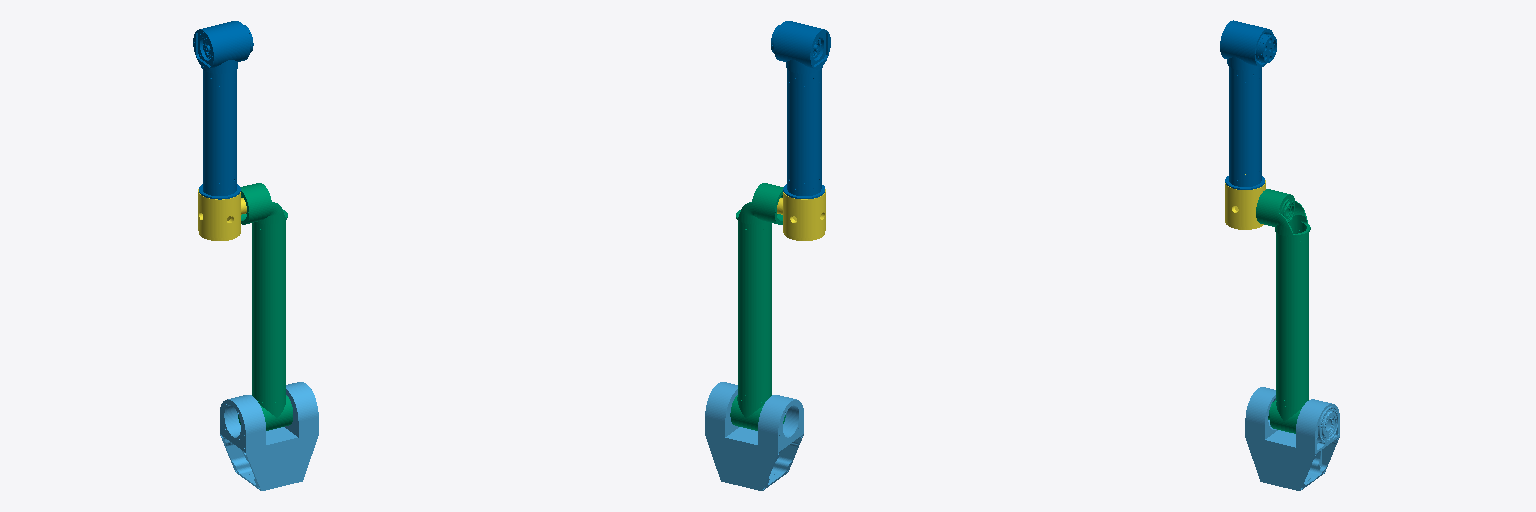
robot.urdf — rover_arm:
<?xml version="1.0"?>
<robot name="rover_arm">

  <!--DEFINING ROBOT LINKS IN ORDER FROM BASE TO HAND-->
  <link name="base_link">
    <visual>
      <origin rpy="0 0 0" xyz="0 0 0"/>
      <geometry>
        <mesh filename="package://rover_arm_urdf/urdf/dae_files/base_link.dae"/>
      </geometry>
    </visual>
    <collision>
      <origin rpy="0 0 0" xyz="0 0 0"/>
      <geometry>
        <mesh filename="package://rover_arm_urdf/urdf/stl_files/base_link.stl"/>
      </geometry>
    </collision>
  </link>
  
  <link name="arm_link_0">
    <visual>
      <origin rpy="0 0 0" xyz="-0.043 -0.056 0"/>
      <geometry>
        <mesh filename="package://rover_arm_urdf/urdf/dae_files/arm_link_0.dae"/>
      </geometry>
    </visual>
    <collision>
      <origin rpy="0 0 0" xyz="-0.043 -0.056 0"/>
      <geometry>
        <mesh filename="package://rover_arm_urdf/urdf/stl_files/arm_link_0.stl"/>
      </geometry>
    </collision>
    <inertial>
      <mass value="1"/>
      <inertia ixx="1.0" ixy="0.0" ixz="0.0" iyy="1.0" iyz="0.0" izz="1.0"/>
    </inertial>
  </link>

  <link name="arm_link_1">
    <visual>
      <origin rpy="0 0 0" xyz="0 0 0"/>
      <geometry>
        <mesh filename="package://rover_arm_urdf/urdf/dae_files/arm_link_1.dae"/>
      </geometry>
    </visual>
    <collision>
      <origin rpy="0 0 0" xyz="0 0 0"/>
      <geometry>
        <mesh filename="package://rover_arm_urdf/urdf/stl_files/arm_link_1.stl"/>
      </geometry>
    </collision>
    <inertial>
      <mass value="1"/>
      <inertia ixx="1.0" ixy="0.0" ixz="0.0" iyy="1.0" iyz="0.0" izz="1.0"/>
    </inertial>
  </link>

  <link name="arm_link_2">
    <visual>
      <origin rpy="0 0 0" xyz="0.063 0.000654 -0.040895"/>
      <geometry>
        <mesh filename="package://rover_arm_urdf/urdf/dae_files/arm_link_2.dae"/>
      </geometry>
    </visual>
    <collision>
      <origin rpy="0 0 0" xyz="0.063 0.000654 -0.040895"/>
      <geometry>
        <mesh filename="package://rover_arm_urdf/urdf/stl_files/arm_link_2.stl"/>
      </geometry>
    </collision>
    <inertial>
      <mass value="1"/>
      <inertia ixx="1.0" ixy="0.0" ixz="0.0" iyy="1.0" iyz="0.0" izz="1.0"/>
    </inertial>
  </link>

  <link name="arm_link_3">
    <visual>
      <origin rpy="0 0 0" xyz="0 0 -0.0086"/>
      <geometry>
        <mesh filename="package://rover_arm_urdf/urdf/dae_files/arm_link_3.dae"/>
      </geometry>
    </visual>
    <collision>
      <origin rpy="0 0 0" xyz="0 0 -0.0086"/>
      <geometry>
        <mesh filename="package://rover_arm_urdf/urdf/stl_files/arm_link_3.stl"/>
      </geometry>
    </collision>
    <inertial>
      <mass value="1"/>
      <inertia ixx="1.0" ixy="0.0" ixz="0.0" iyy="1.0" iyz="0.0" izz="1.0"/>
    </inertial>
  </link>

  <link name="arm_link_4">
    <visual>
      <origin rpy="0 0 1.57079632679" xyz="0 0 0"/>
      <geometry>
        <mesh filename="package://rover_arm_urdf/urdf/dae_files/arm_link_4.dae"/>
      </geometry>
    </visual>
    <collision>
      <origin rpy="0 0 1.57079632679" xyz="0 0 0"/>
      <geometry>
        <mesh filename="package://rover_arm_urdf/urdf/stl_files/arm_link_4.stl"/>
      </geometry>
    </collision>
    <inertial>
      <mass value="1"/>
      <inertia ixx="1.0" ixy="0.0" ixz="0.0" iyy="1.0" iyz="0.0" izz="1.0"/>
    </inertial>
  </link>

  <link name="arm_gripper">
    <visual>
      <origin rpy="0 0 0" xyz="-0.038106 0.015875 0.14921"/>
      <geometry>
        <mesh filename="package://rover_arm_urdf/urdf/dae_files/arm_gripper.dae"/>
      </geometry>
    </visual>
    <collision>
      <origin rpy="0 0 0" xyz="-0.038106 0.015875 0.14921"/>
      <geometry>
        <mesh filename="package://rover_arm_urdf/urdf/stl_files/arm_gripper.stl"/>
      </geometry>
    </collision>
    <inertial>
      <mass value="1"/>
      <inertia ixx="1.0" ixy="0.0" ixz="0.0" iyy="1.0" iyz="0.0" izz="1.0"/>
    </inertial>
  </link>



  <joint name="base_joint" type="revolute">
    <parent link="base_link"/>
    <child link="arm_link_0"/>
    <origin rpy="0 0 0" xyz="0 0.055 0.087245"/>
    <axis xyz="0 0 -1"/>
    <limit effort="1000.0" lower="-1.57079632679" upper="1.57079632679" velocity="6.0"/>
  </joint>

  <joint name="shoulder_joint" type="revolute">
    <parent link="arm_link_0"/>
    <child link="arm_link_1"/>
    <origin rpy="0 0 3.14159" xyz="0 0 0.151443"/>
    <axis xyz="-1 0 0"/>
    <limit effort="1000.0" lower="-1.57079632679" upper="1.57079632679" velocity="6.0"/>
  </joint>

  <joint name="elbow_pitch_joint" type="revolute">
    <parent link="arm_link_1"/>
    <child link="arm_link_2"/>
    <origin rpy="0 0 0" xyz="0.05925 0 0.501983"/>
    <axis xyz="-1 0 0"/>
    <limit effort="1000.0" lower="-2.7925" upper="2.7925" velocity="6.0"/>
  </joint>

  <joint name="elbow_roll_joint" type="revolute">
    <parent link="arm_link_2"/>
    <child link="arm_link_3"/>
    <origin rpy="0 0 0" xyz="0.063 0.000654 0.059505"/>
    <axis xyz="0 0 -1"/>
    <limit effort="1000.0" lower="-3.141592653589793" upper="3.141592653589793" velocity="6.0"/>
  </joint>

  <joint name="wrist_pitch_joint" type="revolute">
    <parent link="arm_link_3"/>
    <child link="arm_link_4"/>
    <origin rpy="0 0 0" xyz="-0.065 0 0.3318"/>
    <axis xyz="-1 0 0"/>
    <limit effort="1000.0" lower="-1.57079632679" upper="3.141592653589793" velocity="6.0"/>
  </joint>

  <joint name="wrist_roll_joint" type="continuous">
    <parent link="arm_link_4"/>
    <child link="arm_gripper"/>
    <origin rpy="0 0 0" xyz="-0.050 0 0.050484"/>
    <axis xyz="0 0 1"/>
    <limit effort="1000.0" velocity="6.0"/>
  </joint>

</robot>

--- Facts derived from the render (not from the file) ---
3 views of the same robot in one strip: view 1: azimuth 30°, elevation 25°; view 2: azimuth 150°, elevation 25°; view 3: azimuth 330°, elevation 25° (orthographic).
Model rover_arm with 7 links and 6 joints (5 revolute, 1 continuous), rooted at base_link, posed every joint at zero.
Links seen in each view (by area): view 1: arm_link_1, arm_link_0, arm_link_3, arm_link_2; view 2: arm_link_1, arm_link_0, arm_link_3, arm_link_2; view 3: arm_link_1, arm_link_0, arm_link_3, arm_link_2.
Link boxes in pixels (x1=…): arm_link_1: x1=238, y1=183, x2=292, y2=430; arm_link_0: x1=220, y1=382, x2=318, y2=490; arm_link_3: x1=193, y1=21, x2=253, y2=199; arm_link_2: x1=198, y1=189, x2=246, y2=240; arm_link_1: x1=730, y1=183, x2=785, y2=430; arm_link_0: x1=705, y1=382, x2=803, y2=490; arm_link_3: x1=771, y1=21, x2=830, y2=198; arm_link_2: x1=777, y1=189, x2=825, y2=240; arm_link_1: x1=1256, y1=189, x2=1310, y2=433; arm_link_0: x1=1245, y1=387, x2=1339, y2=490; arm_link_3: x1=1220, y1=20, x2=1276, y2=189; arm_link_2: x1=1225, y1=174, x2=1265, y2=229.
Bounding box of the posed robot: 0.2672 × 0.112 × 1.09 m (x, y, z).
Meshes: 7 distinct files referenced, 4 mesh visuals loaded (4 Collada DAE); not drawn: 3 (reference not matched to a file when rendering).